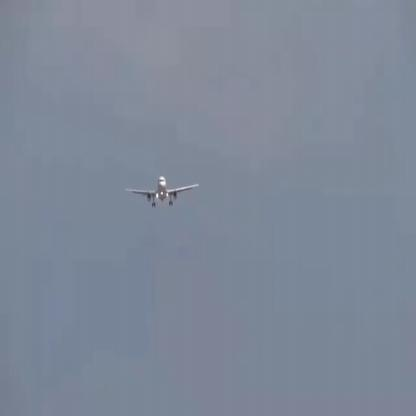CIV_Plane: (126, 177, 200, 209)
